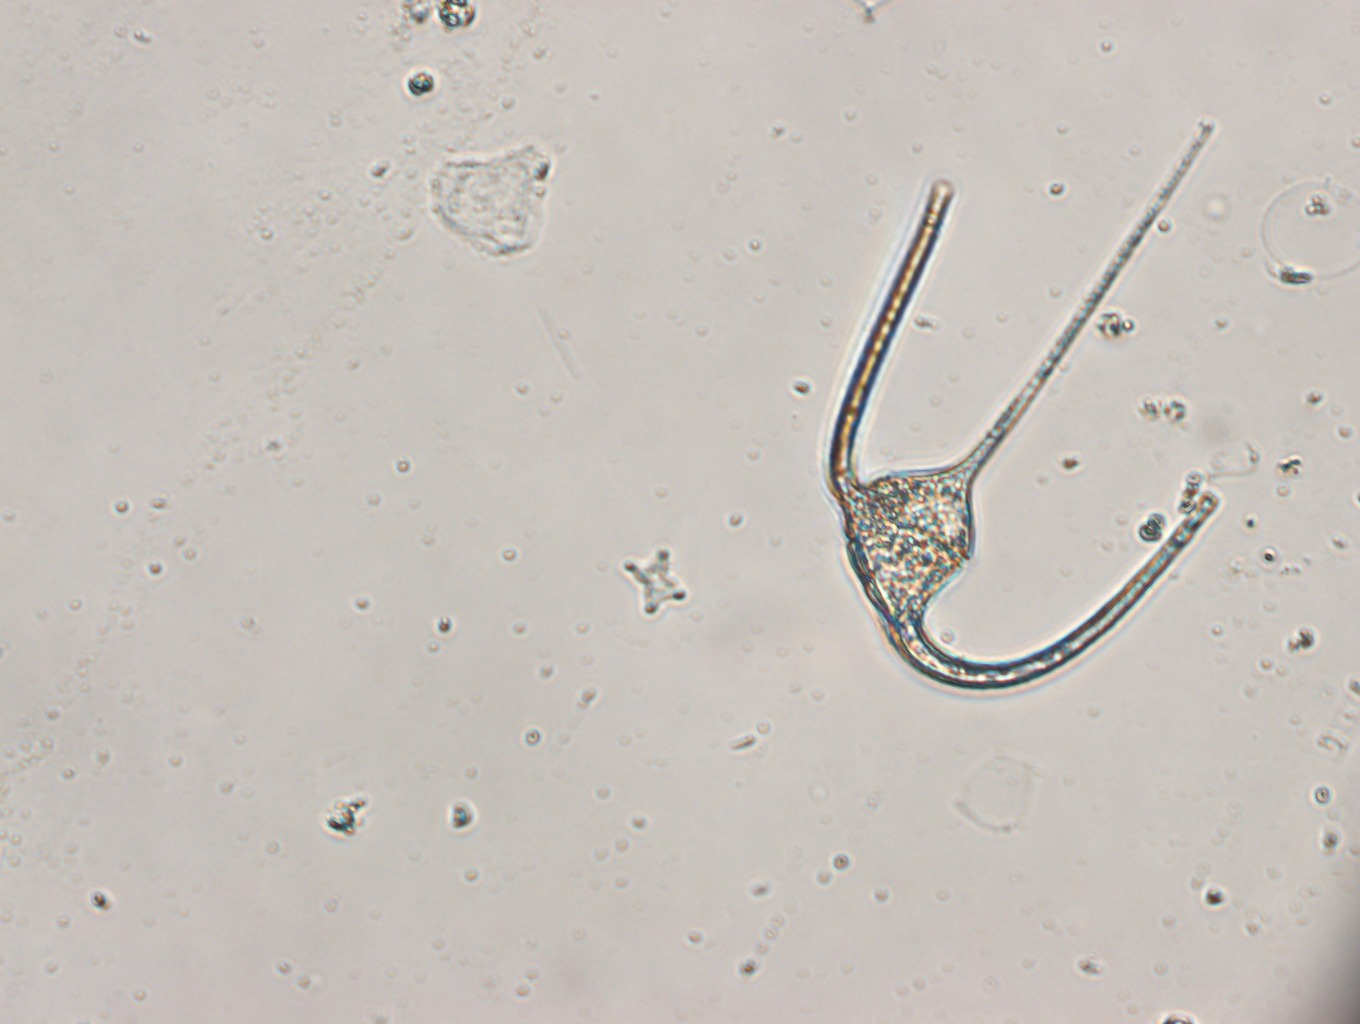ceratium trichoceros: (824, 116, 1223, 692)
